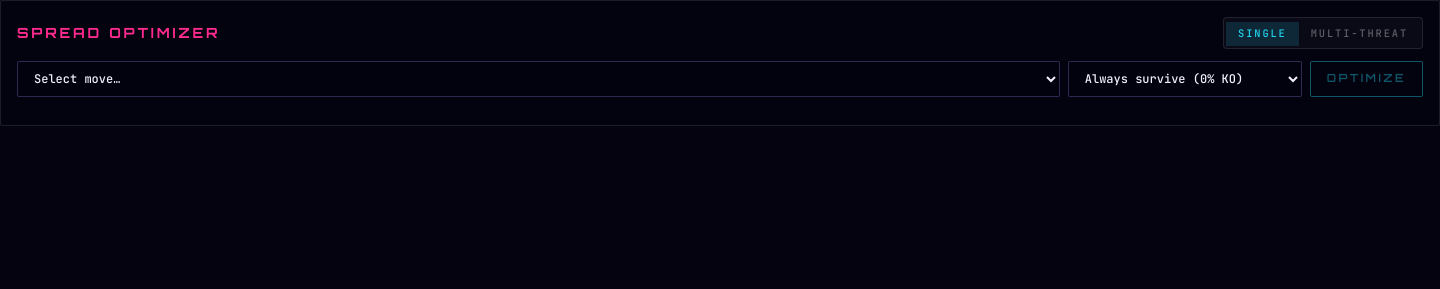
Test: SpreadOptimizerPanel › pins the current defender as a multi-threat target
The image size is (1440, 289).
Step 1. Click the tab "Multi-threat" → (1359, 34), box [1299,22,1420,46]
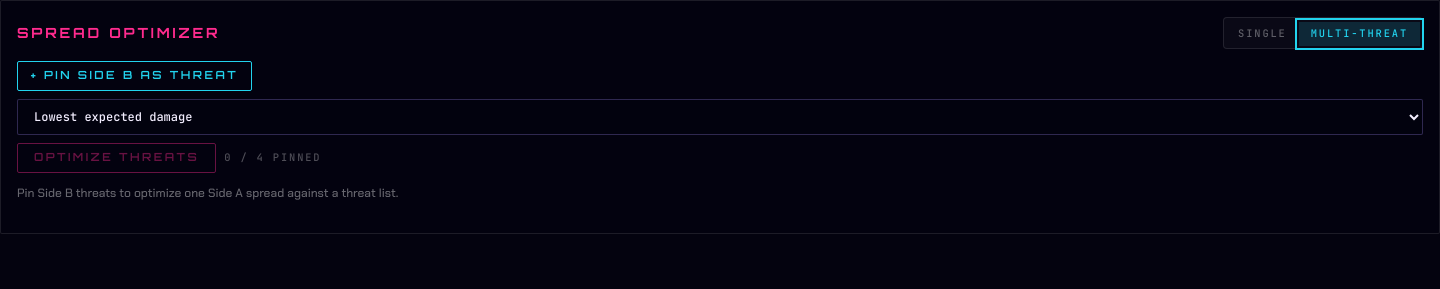
Step 2. Click the button "+ Pin Side B as threat" → (135, 76), box [17,61,252,91]
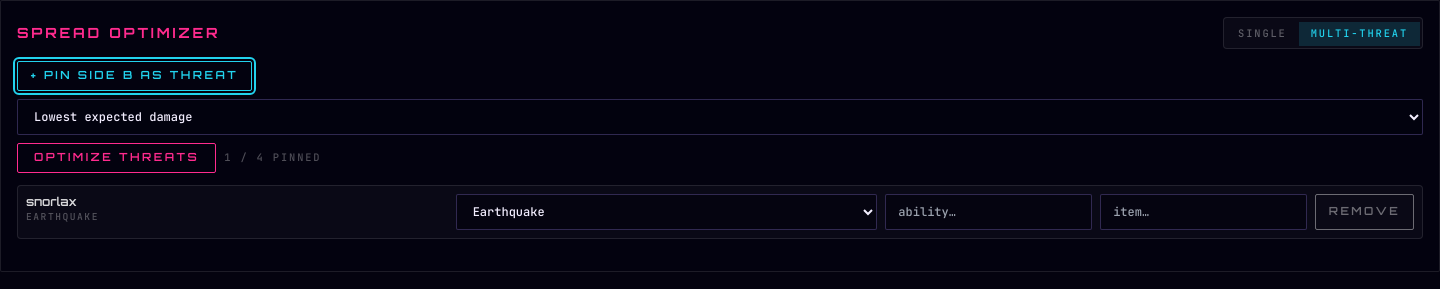
Expected: the text "snorlax" is shown, [26,194,77,209]
